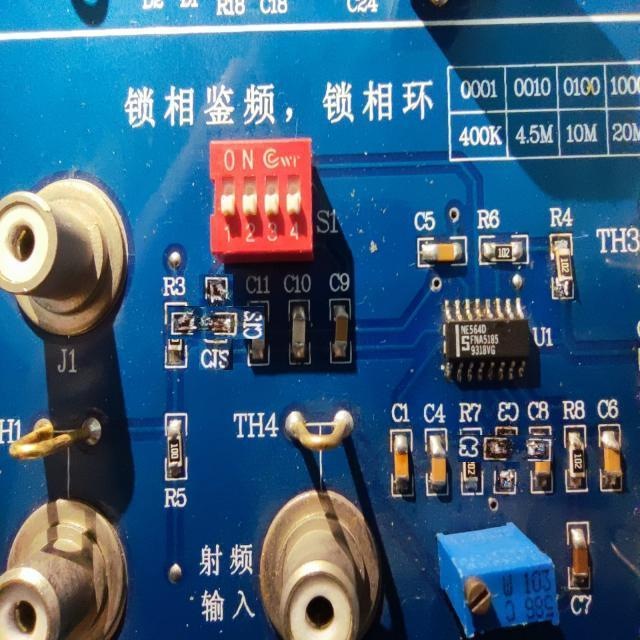miss_welding: (184, 289, 249, 355), (475, 418, 537, 479)
